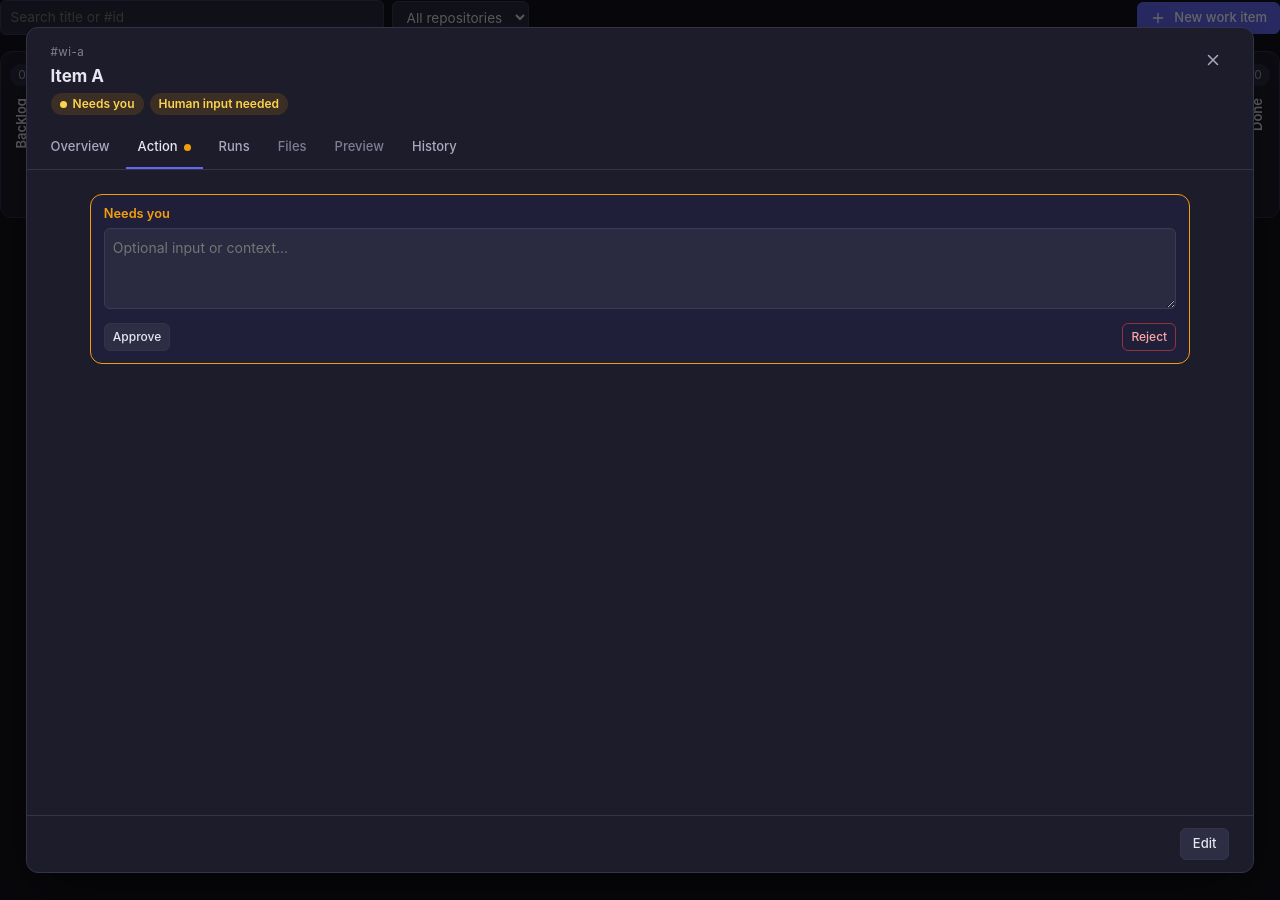
Test: a dialog belongs to the work item it was opened for › a reconnect read that lands after an accepted answer does not bring the answered box back
Expected: the element with class "wiv2-feedback" is shown, top-left (104, 204), bottom-right (1176, 351)
Type "Looks good" into the text box with placeholder "Optional input or context..." at (640, 268), box top-left (104, 228), bottom-right (1176, 309)
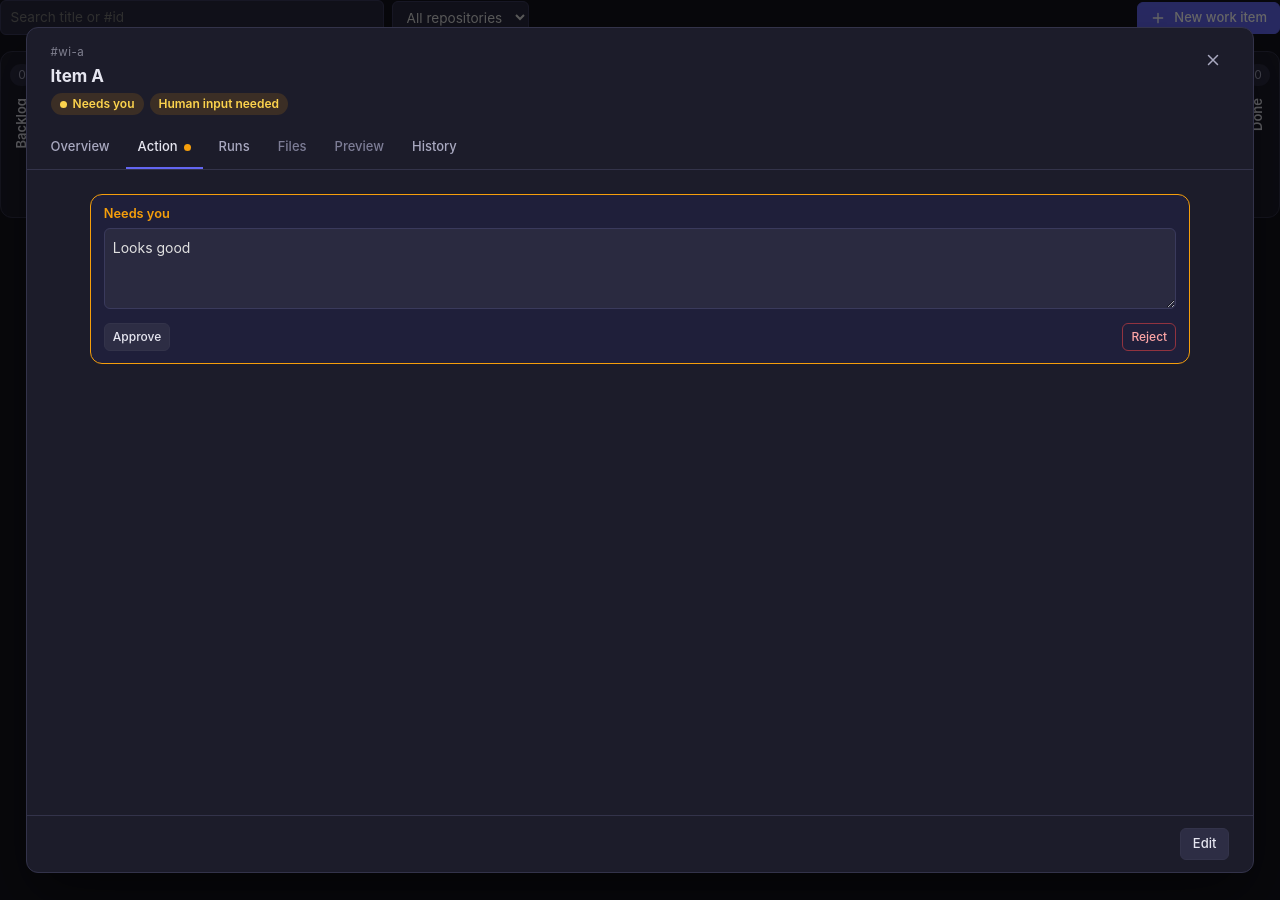
Click the button "Approve" at (137, 337), box top-left (104, 323), bottom-right (170, 351)
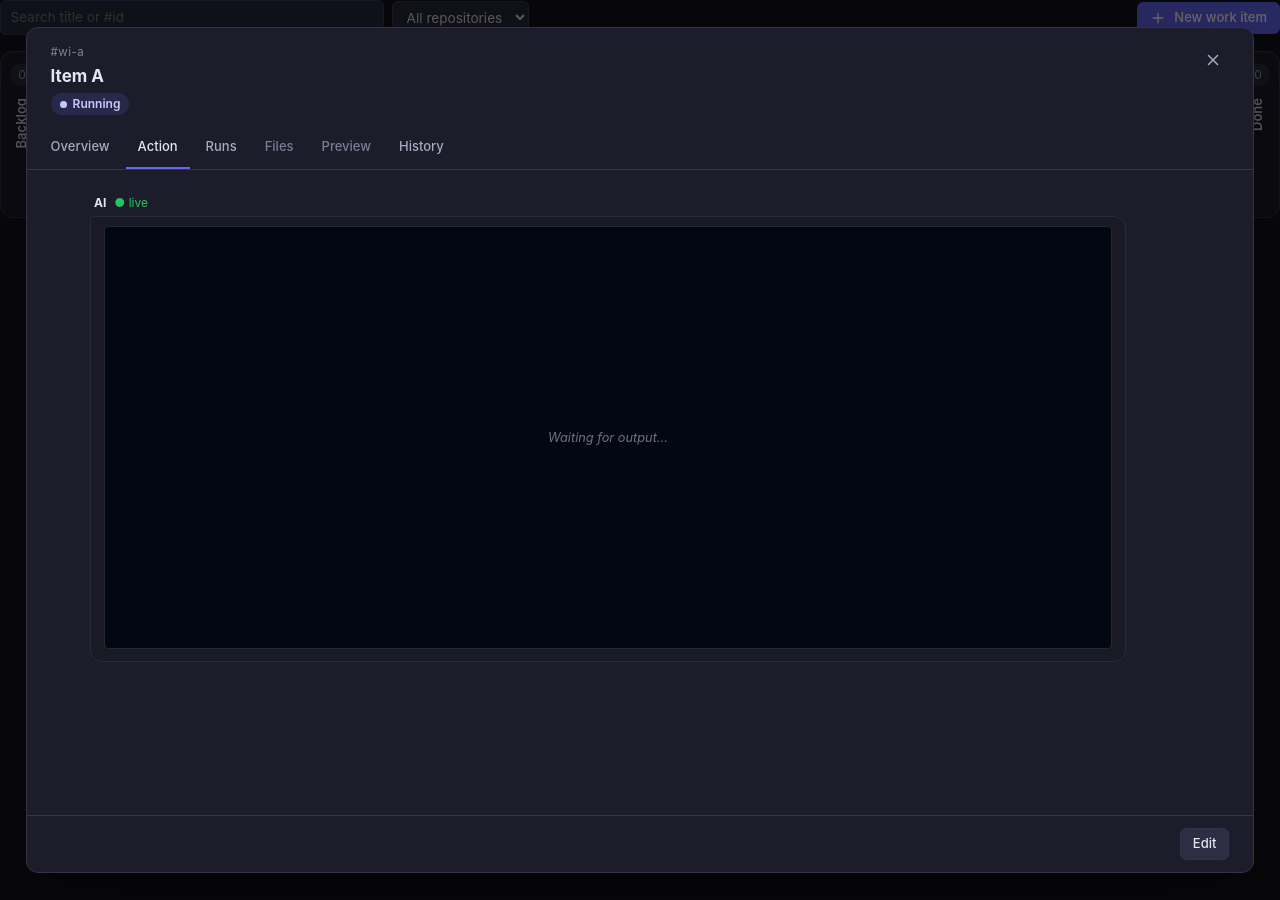
Expected: the heading "Item A" below "Needs you" is shown, top-left (142, 144), bottom-right (185, 161)
Expected: the element with class "wiv2-feedback" is gone
